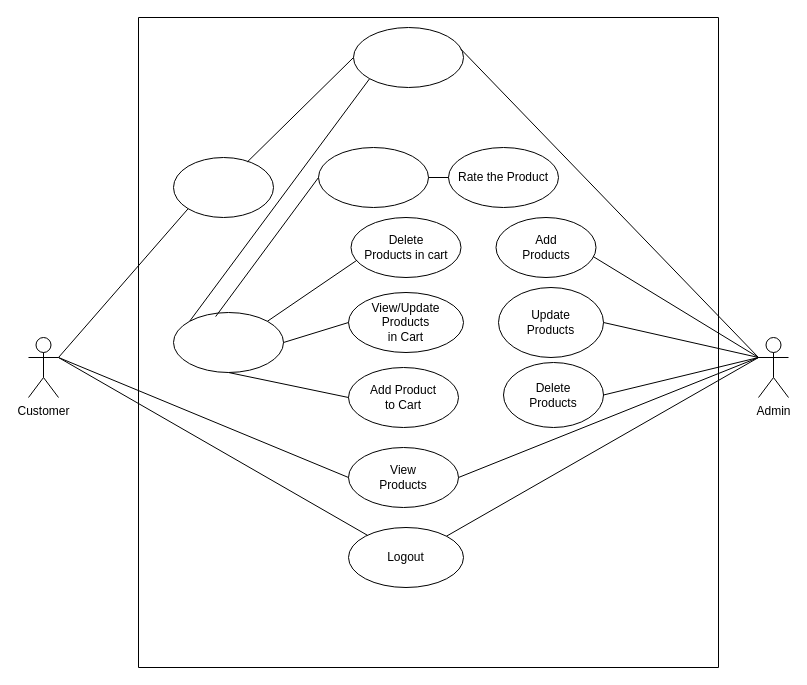
This 807x685 diagram has some shape labels left out. Here are the shapes that lost their labels. From the top down, the box of each, then its label:
(352, 26, 464, 88): Login
(172, 156, 274, 218): Registration
(318, 146, 428, 208): Place order
(172, 312, 284, 372): Products in Cart
